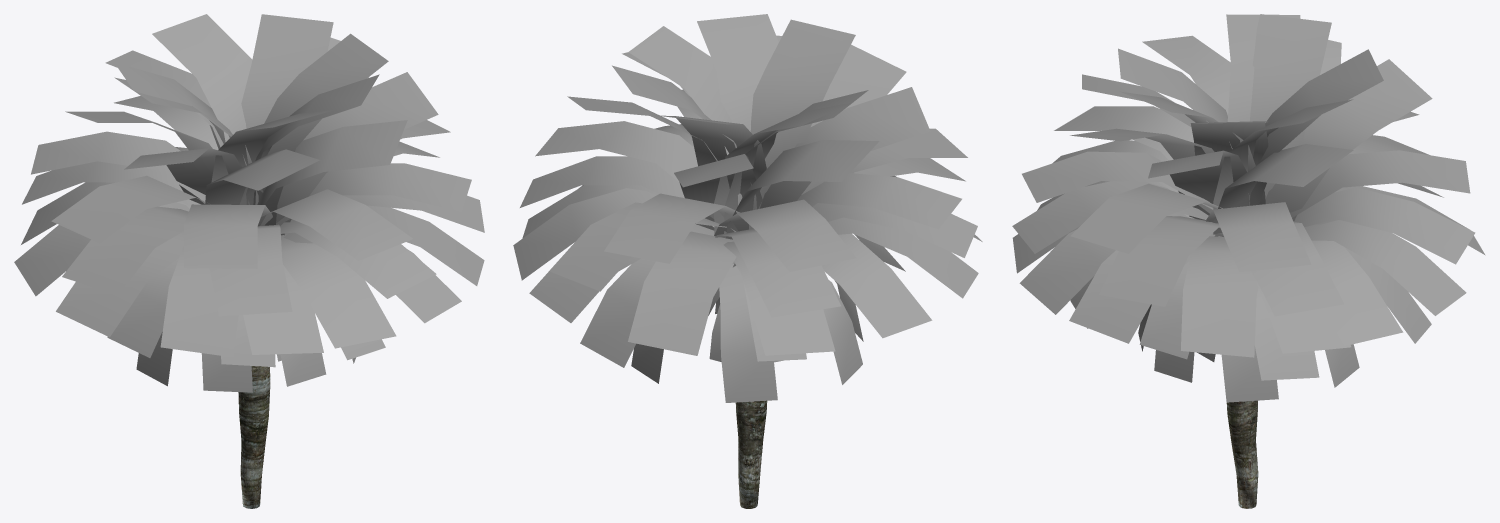
File: xan_2s_Hi.fbx
3 views of the same model, side by side, from view 1: azimuth 30°, elevation 25°; view 2: azimuth 150°, elevation 25°; view 3: azimuth 270°, elevation 25° (orthographic).
Parts seen in each view (by area): view 1: xan_Hi; view 2: xan_Hi; view 3: xan_Hi.
Boxes of the visible parts, left/top/right/bottom form: xan_Hi: left=14, top=14, right=484, bottom=508; xan_Hi: left=513, top=14, right=982, bottom=508; xan_Hi: left=1012, top=14, right=1485, bottom=508.
Size of the model in its own units: 1401 by 1428 by 1403.
